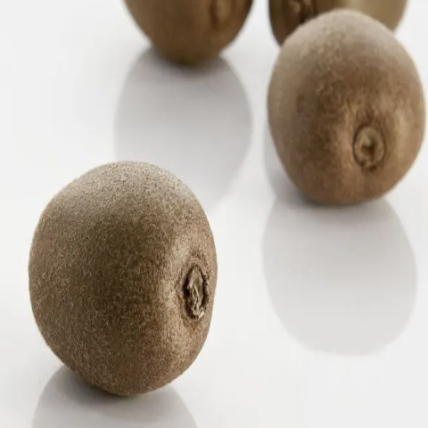kiwi: (11, 144, 235, 410), (245, 7, 428, 223)
